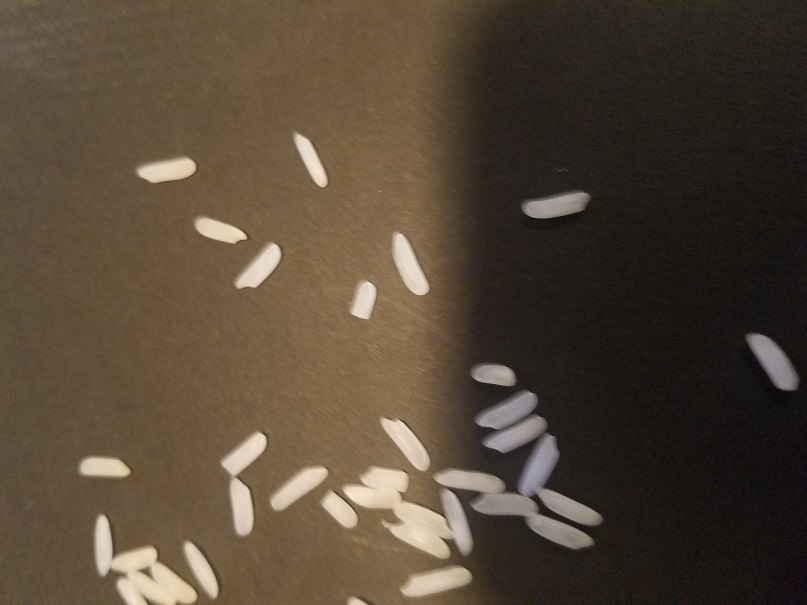egg: (744, 330, 803, 391), (522, 514, 596, 558), (377, 414, 432, 473), (387, 499, 457, 543), (532, 485, 603, 528), (380, 519, 453, 560), (268, 463, 330, 511), (388, 230, 431, 296), (480, 413, 549, 454), (517, 434, 562, 496), (180, 537, 222, 602), (437, 487, 475, 558), (398, 565, 475, 600), (474, 388, 539, 429), (217, 429, 272, 477), (234, 240, 282, 292), (289, 131, 328, 188), (519, 189, 592, 219), (145, 561, 197, 601), (225, 475, 257, 539), (130, 154, 197, 184), (191, 213, 250, 245), (317, 488, 359, 530), (126, 569, 176, 604), (431, 470, 507, 493), (337, 481, 402, 507), (470, 492, 538, 515), (93, 512, 116, 577), (346, 279, 379, 323), (468, 360, 518, 389), (75, 454, 131, 479), (359, 467, 411, 492), (110, 544, 158, 571), (115, 578, 152, 604)
